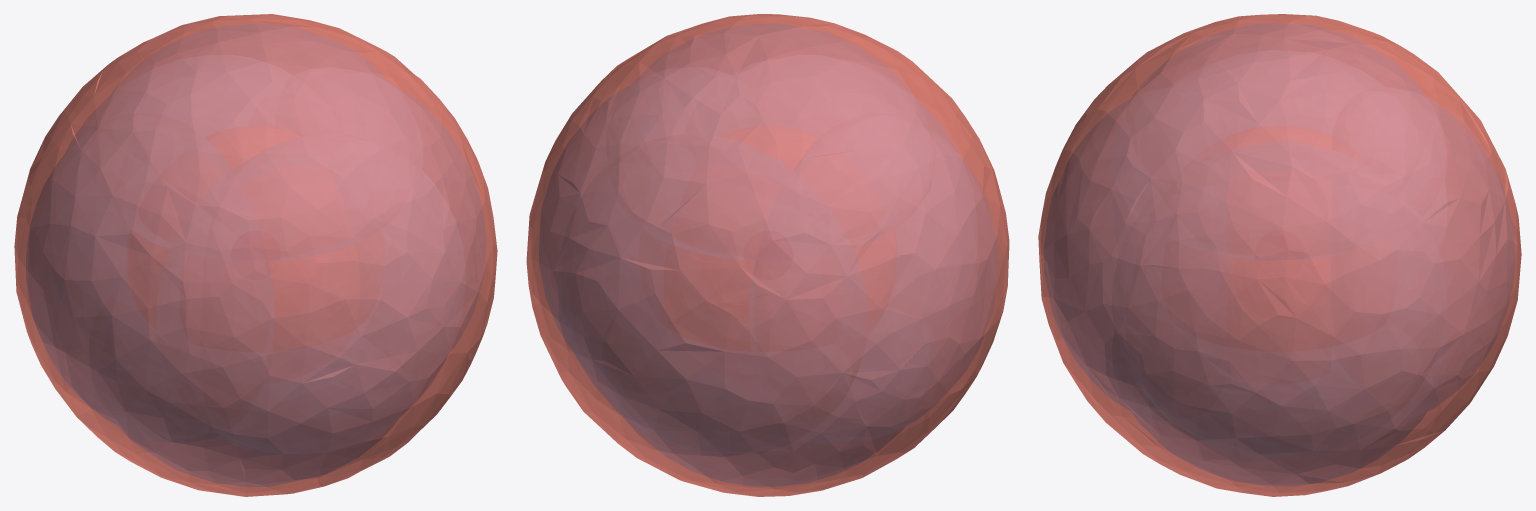
The model's file is orbital.glb.
3 views of the same model, side by side, from view 1: azimuth 30°, elevation 25°; view 2: azimuth 150°, elevation 25°; view 3: azimuth 270°, elevation 25° (orthographic).
Parts seen in each view (by area): view 1: N_n2_s_ml0_node, N_n2_p_ml-1_node, N_n2_p_ml1_node, N_n2_p_ml0_node; view 2: N_n2_s_ml0_node, N_n2_p_ml-1_node, N_n2_p_ml1_node, N_n2_p_ml0_node; view 3: N_n2_s_ml0_node, N_n2_p_ml0_node, N_n2_p_ml-1_node, N_n2_p_ml1_node.
Boxes of the visible parts, x1=… form: N_n2_s_ml0_node: x1=14, y1=14, x2=497, y2=496; N_n2_p_ml-1_node: x1=94, y1=24, x2=418, y2=486; N_n2_p_ml1_node: x1=26, y1=84, x2=485, y2=440; N_n2_p_ml0_node: x1=66, y1=97, x2=465, y2=453; N_n2_s_ml0_node: x1=526, y1=14, x2=1009, y2=496; N_n2_p_ml-1_node: x1=606, y1=24, x2=929, y2=486; N_n2_p_ml1_node: x1=539, y1=86, x2=997, y2=439; N_n2_p_ml0_node: x1=558, y1=98, x2=959, y2=453; N_n2_s_ml0_node: x1=1038, y1=14, x2=1521, y2=496; N_n2_p_ml0_node: x1=1044, y1=98, x2=1514, y2=414; N_n2_p_ml-1_node: x1=1125, y1=23, x2=1433, y2=485; N_n2_p_ml1_node: x1=1126, y1=225, x2=1432, y2=458.
Size of the model in its own units: 1.07 by 1.07 by 1.07.
